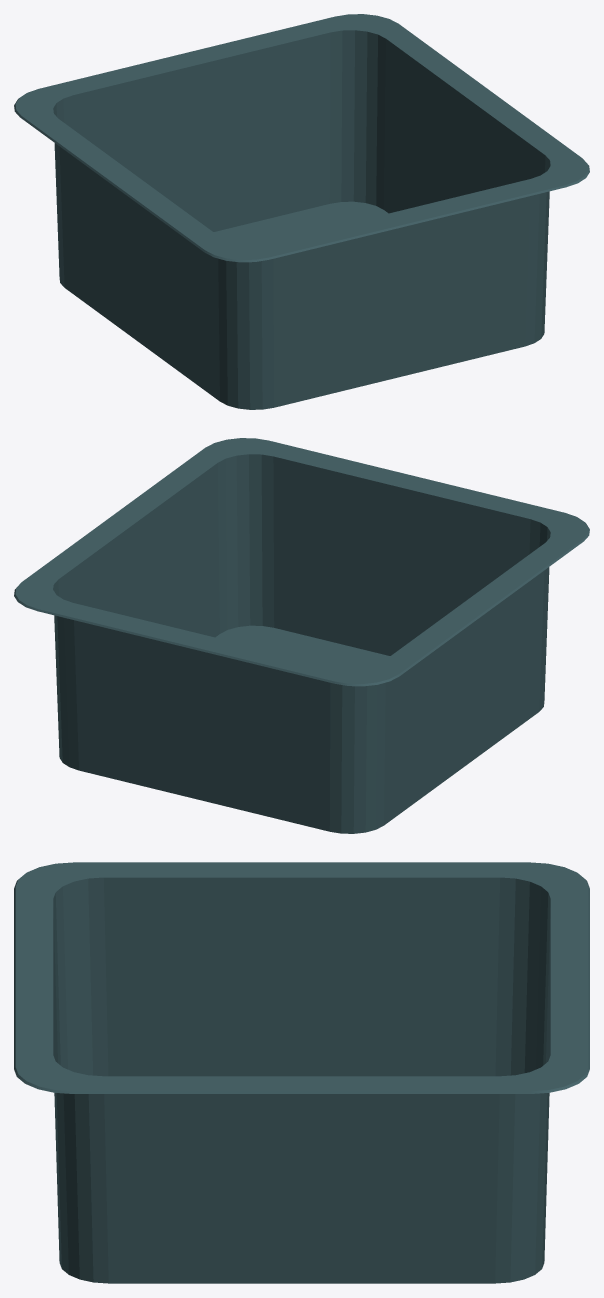
File: Sink.fbx
The picture shows the model from 3 angles, top to bottom: view 1: azimuth 30°, elevation 25°; view 2: azimuth 150°, elevation 25°; view 3: azimuth 270°, elevation 25°; orthographic projection. The views are drawn at different scales.
Parts seen in each view (by area): view 1: Sink; view 2: Sink; view 3: Sink.
Boxes of the visible parts, bbox=[...] form: Sink: bbox=[14, 14, 589, 409]; Sink: bbox=[14, 438, 589, 833]; Sink: bbox=[14, 862, 589, 1283].
Bounding box in the file's own units: 359 × 152 × 379.
